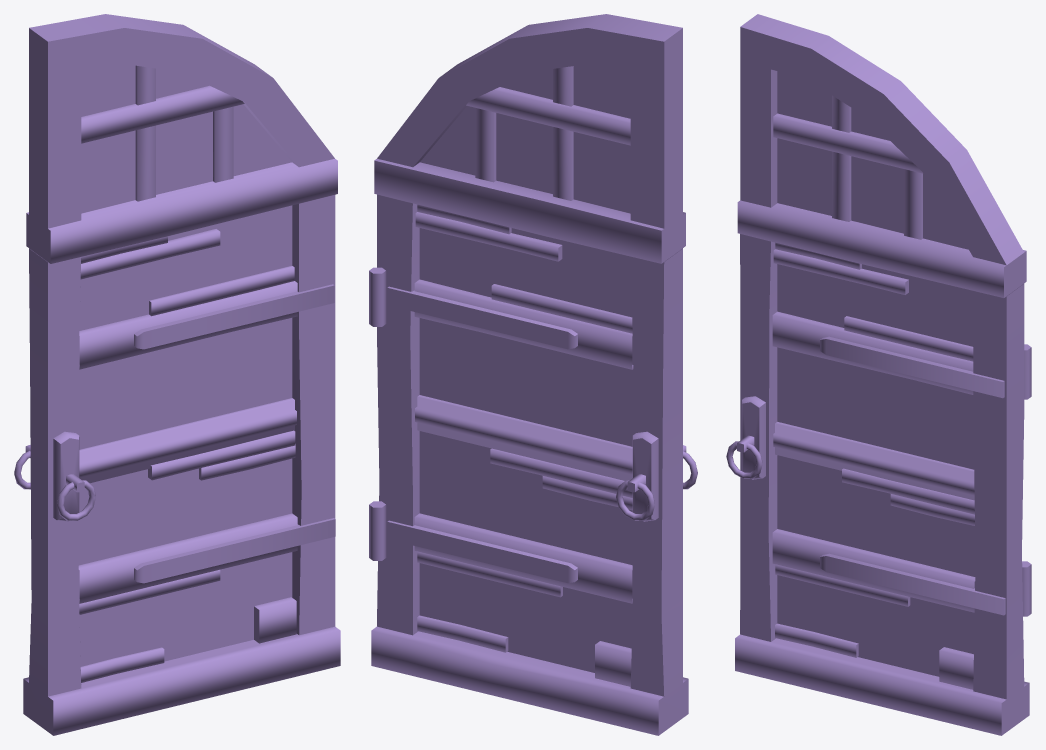
Rendered from gate_a_wing_left.fbx.
The picture shows the model from 3 angles, left to right: view 1: azimuth 30°, elevation 25°; view 2: azimuth 150°, elevation 25°; view 3: azimuth 330°, elevation 25°; orthographic projection. The views are drawn at different scales.
Parts seen in each view (by area): view 1: Plane.016; view 2: Plane.016; view 3: Plane.016.
Part boxes in pixels (box(x1,y1,x2,y2)): Plane.016: box(14, 14, 340, 735); Plane.016: box(369, 14, 697, 735); Plane.016: box(726, 14, 1031, 735).
Bounding box in the file's own units: 1.79 × 4.05 × 0.5475.
